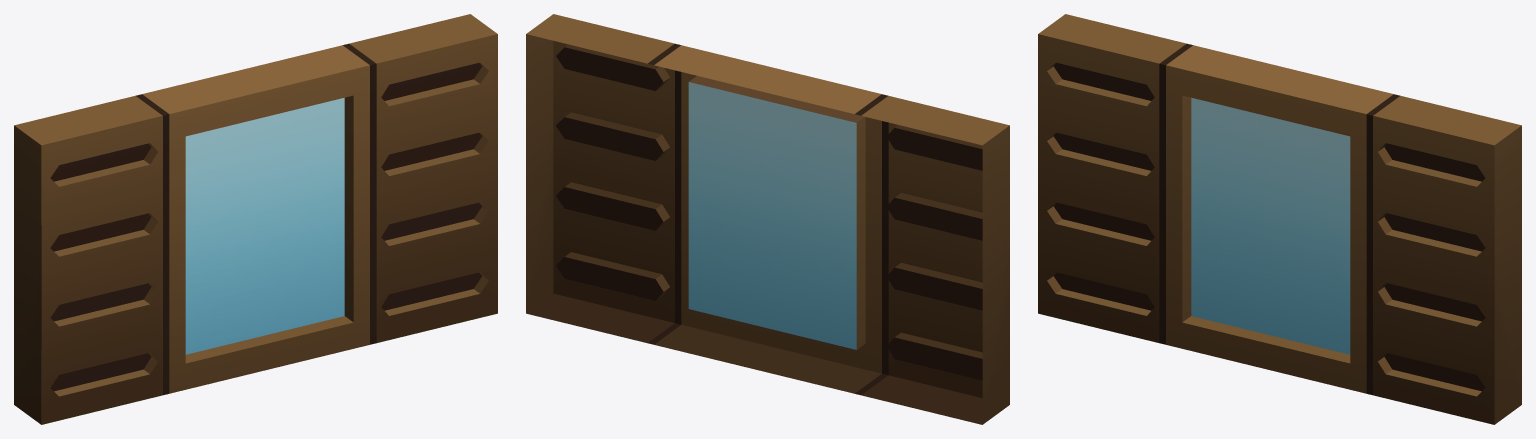
Rendered from Window_02C.fbx.
3 views of the same model, side by side, from view 1: azimuth 30°, elevation 25°; view 2: azimuth 150°, elevation 25°; view 3: azimuth 330°, elevation 25° (orthographic).
Visible parts, largest first — view 1: Window_02C; view 2: Window_02C; view 3: Window_02C.
Boxes of the visible parts, x1,y1,x2,y2 form: Window_02C: (14,14,497,424); Window_02C: (526,14,1009,424); Window_02C: (1038,14,1521,424).
Bounding box in the file's own units: 183 × 107 × 19.02.
2 materials, 2 textured.
